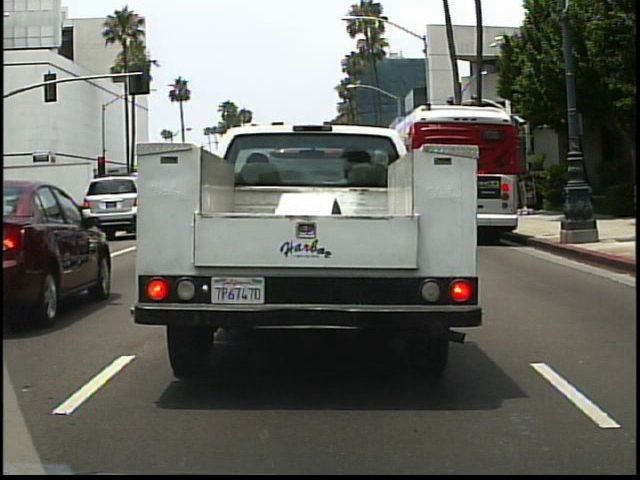person: (42, 193, 64, 236), (22, 197, 41, 232)
